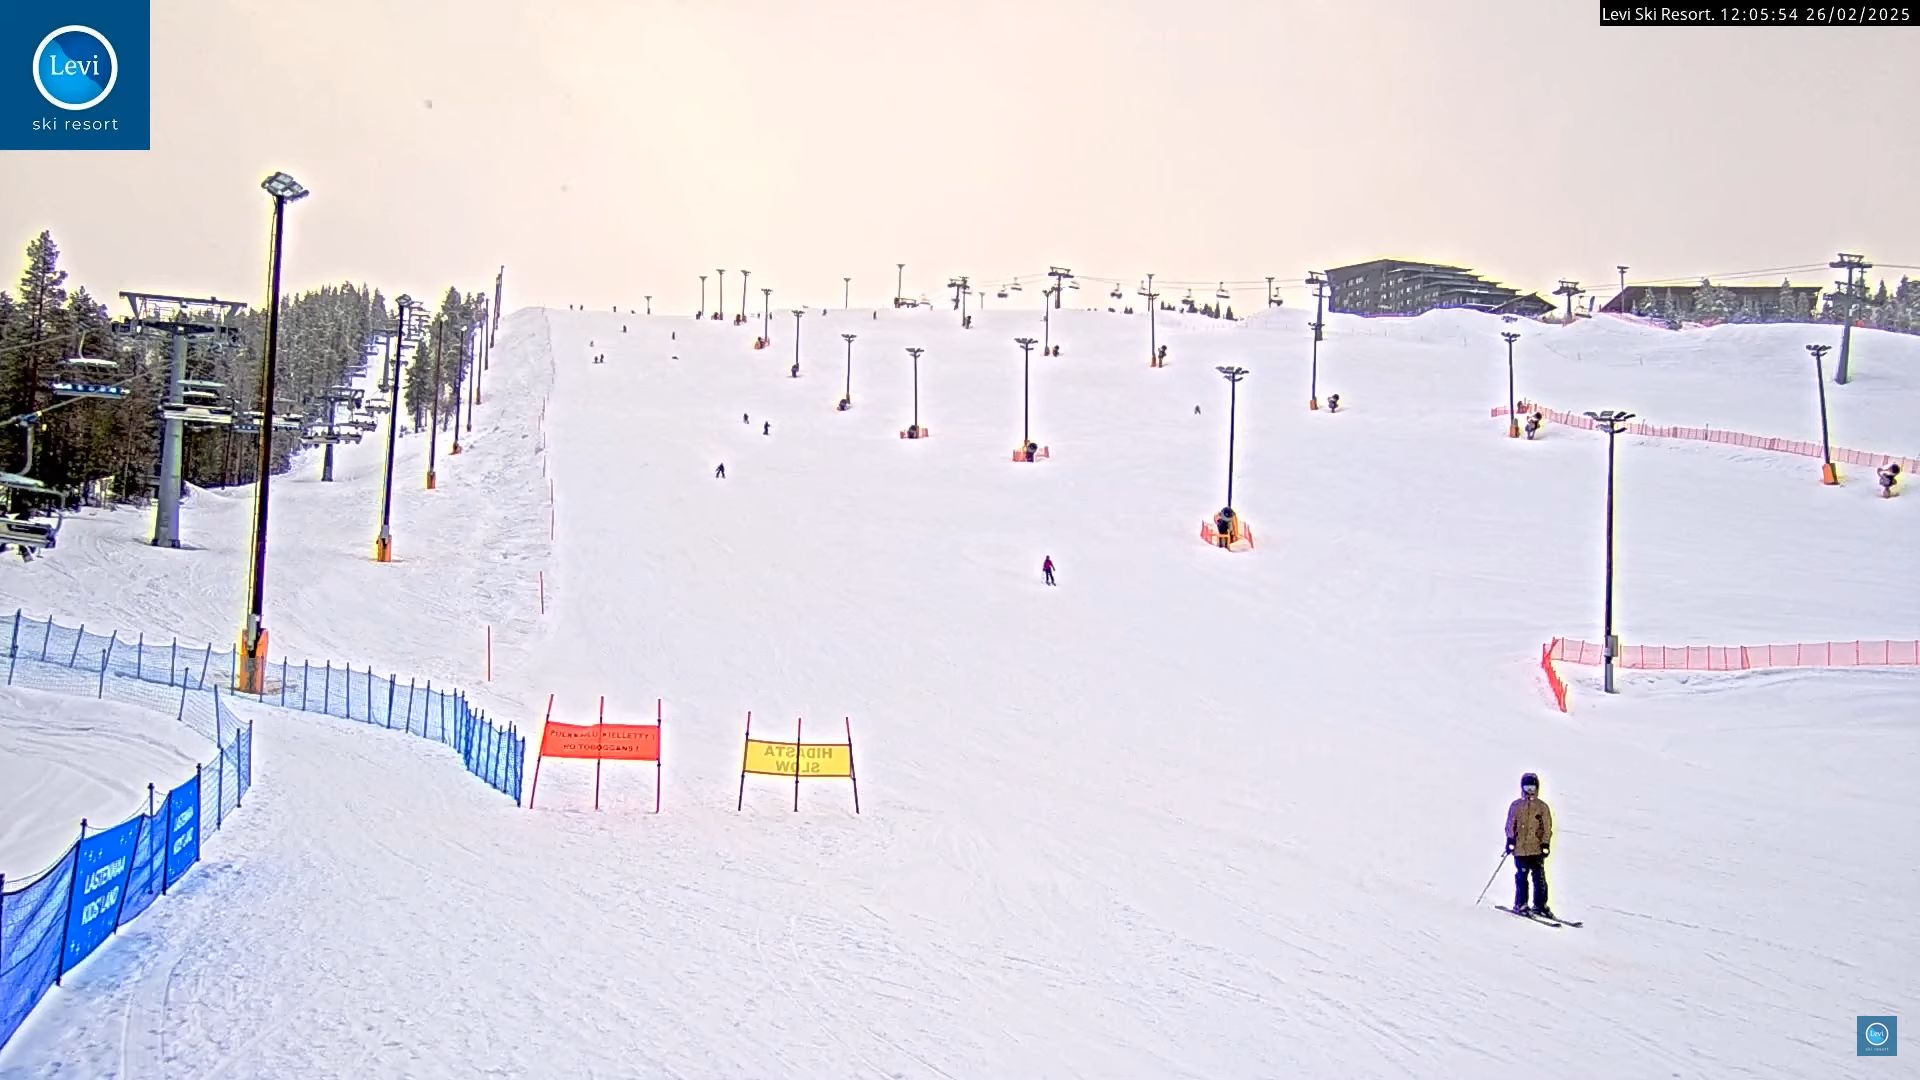skier: (1472, 771, 1586, 932), (1039, 553, 1060, 591)
